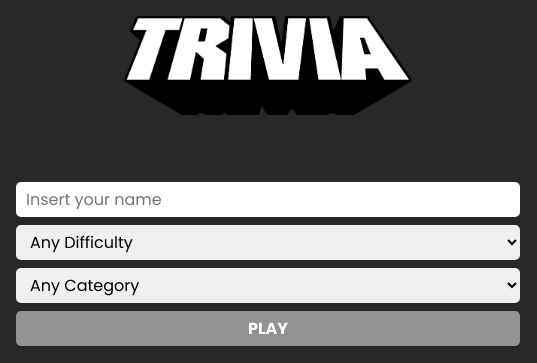
Scenario: Tests Login Page: › enables button after complete input fields
The image size is (537, 363).
Step 1. Type "Rafael" into the field with placeholder "Insert your name" → (268, 200), box [16,182,520,217]
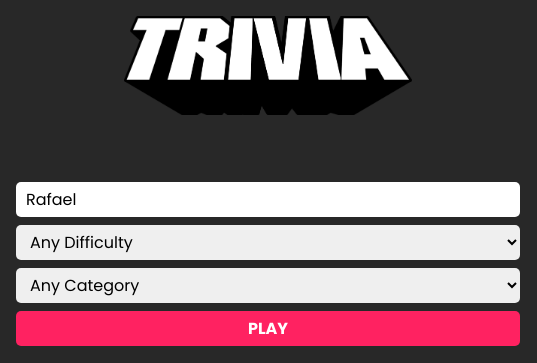
Check: the button "PLAY" is enabled, box [16,311,520,346]
